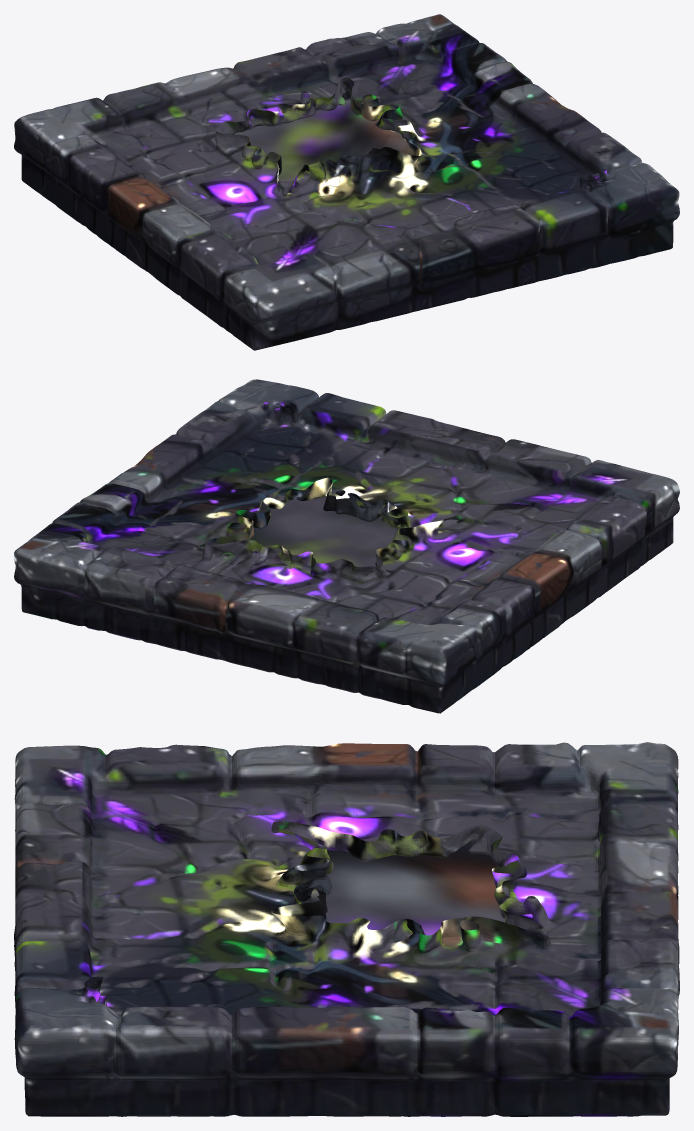
File: plague_plate.glb
The picture shows the model from 3 angles, top to bottom: view 1: azimuth 30°, elevation 25°; view 2: azimuth 150°, elevation 25°; view 3: azimuth 270°, elevation 25°; orthographic projection. The views are drawn at different scales.
Visible parts, largest first — view 1: plague_plate; view 2: plague_plate; view 3: plague_plate.
Boxes of the visible parts, x1,y1,x2,y2 form: plague_plate: (14, 14, 679, 350); plague_plate: (14, 379, 679, 713); plague_plate: (14, 742, 679, 1116).
Size of the model in its own units: 2 by 0.3046 by 1.93.
1 material, 1 textured.
